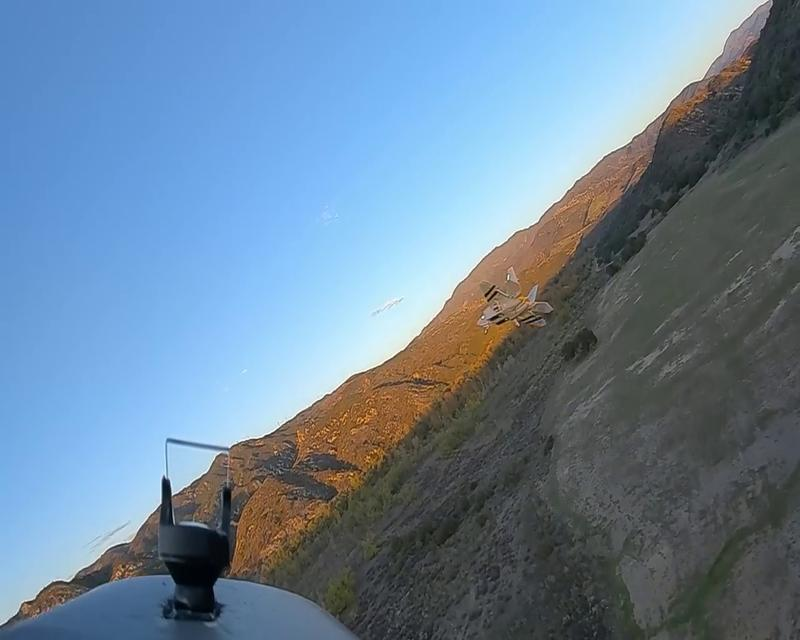UAV: (476, 267, 554, 335)
